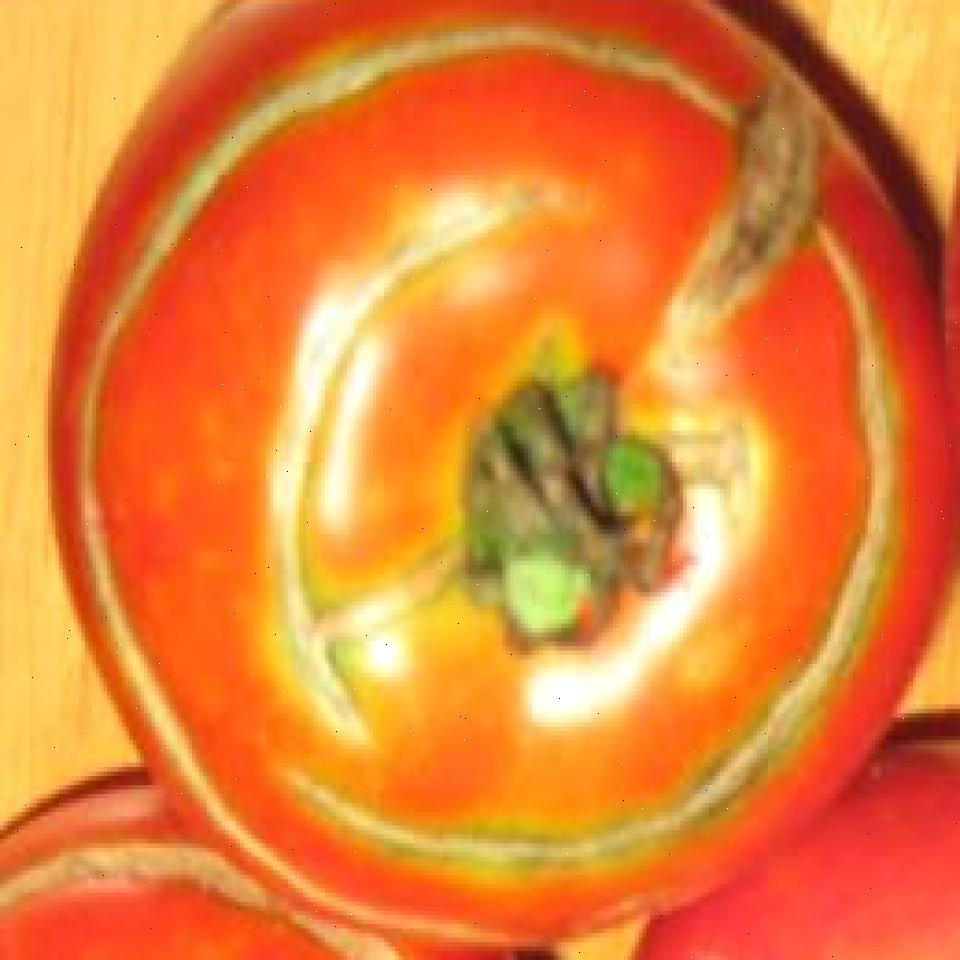Cracking: (71, 26, 916, 946), (272, 204, 908, 862), (266, 205, 536, 751)
